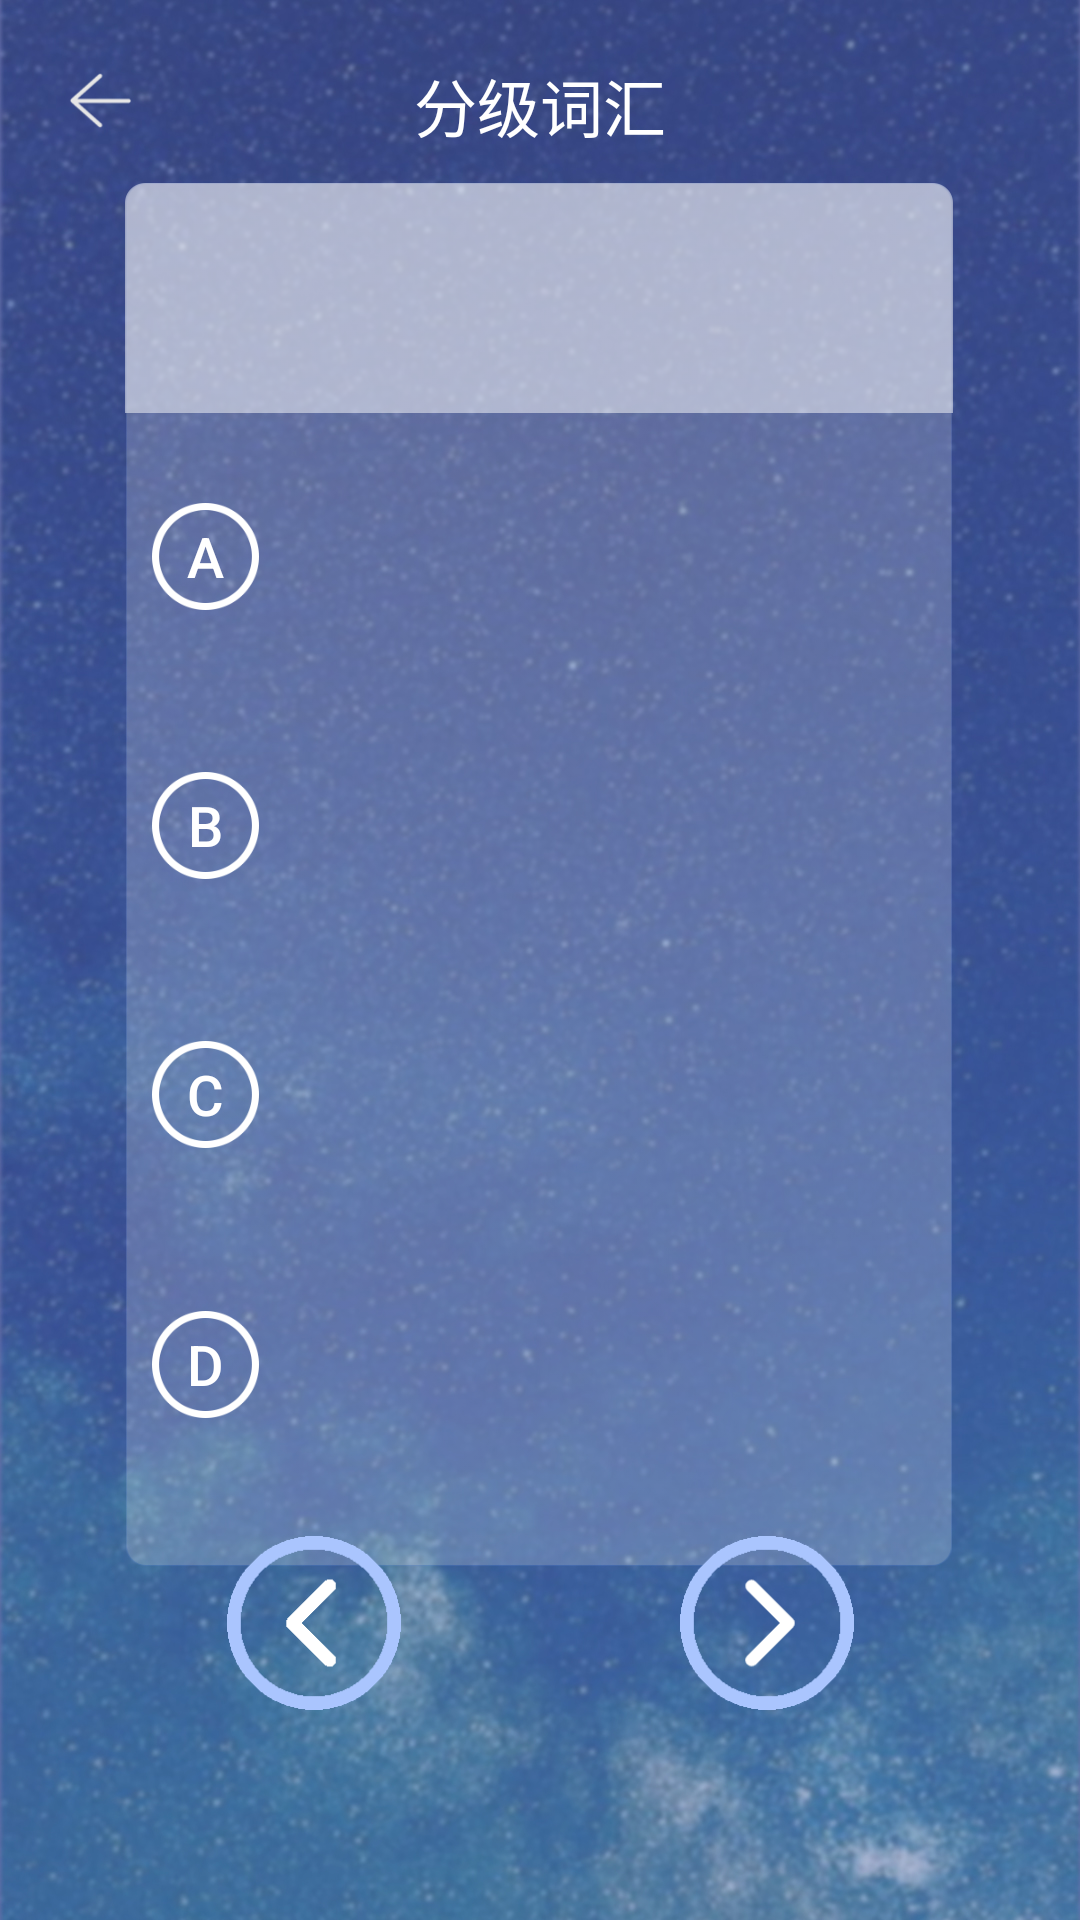

Named icons in this screenshot (1080 × 1920) and their centers, point (x, y):
back: point (100, 100)
word left: point (314, 1623)
word right: point (767, 1623)
